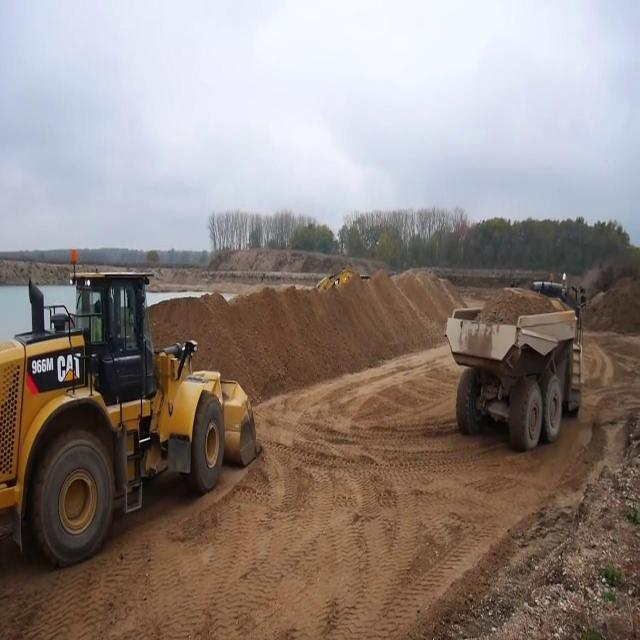Dump Truck: (443, 273, 588, 456)
Loader: (0, 249, 260, 569)
